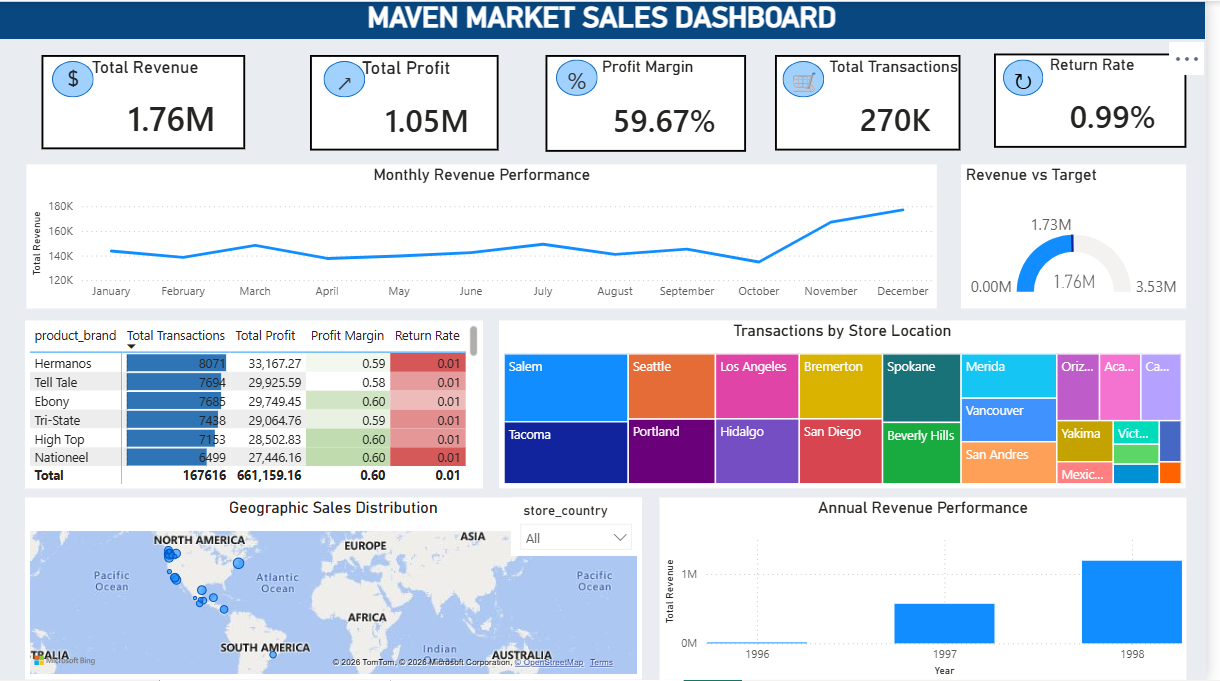

The dashboard page shown, as its layout file describes it:
{"tool":"powerbi","page":{"name":"Executive Dashboard","canvas":[1280,720],"ordinal":0},"visuals":[{"type":"cardVisual","title":"Total Revenue","fields":{"Data":["Measures (2).Total Revenue"]},"box":[45.7,57.1,215.7,100],"z":0},{"type":"cardVisual","title":"Total Profit","fields":{"Data":["Measures (2).Total Profit"]},"box":[331.4,57.1,200,101.6],"z":1000},{"type":"cardVisual","title":"Profit Margin","fields":{"Data":["Measures (2).Profit Margin"]},"box":[580,57.1,212.9,102.9],"z":2000},{"type":"cardVisual","title":"Total Transactions","fields":{"Data":["Measures (2).Total Transactions"]},"box":[823.9,56.7,196.9,101.6],"z":3000},{"type":"cardVisual","title":"Return Rate","fields":{"Data":["Measures (2).Return Rate"]},"box":[1055.8,55.8,203.8,100],"z":4000},{"type":"lineChart","title":"Monthly Revenue Performance","fields":{"Category":["MavenMarket_Calender.Start of Month.Variation.Date Hierarchy.Year","MavenMarket_Calender.Start of Month.Variation.Date Hierarchy.Quarter","MavenMarket_Calender.Start of Month.Variation.Date Hierarchy.Month","MavenMarket_Calender.Start of Month.Variation.Date Hierarchy.Day"],"Y":["Measures (2).Total Revenue"]},"box":[30.2,173.4,965.5,152.7],"z":5000},{"type":"gauge","title":"Revenue vs Target","fields":{"Y":["Measures (2).Total Revenue"],"TargetValue":["Measures (2).Revenue Target"]},"box":[1021.2,173.4,238.6,152.7],"z":6000},{"type":"pivotTable","fields":{"Rows":["MavenMarket_Products.product_brand"],"Values":["Measures (2).Total Transactions","Measures (2).Total Profit","Measures (2).Profit Margin","Measures (2).Return Rate"]},"box":[28.6,338.8,485.1,178.1],"z":7000},{"type":"treemap","title":"Transactions by Store Location","fields":{"Group":["MavenMarket_Stores.store_country","MavenMarket_Stores.store_state","MavenMarket_Stores.store_city"],"Values":["Measures (2).Total Transactions"]},"box":[531.3,338.8,728.1,178.1],"z":8000},{"type":"map","title":"Geographic Sales Distribution","fields":{"Category":["MavenMarket_Stores.store_city"],"Size":["Measures (2).Total Transactions"]},"box":[28.8,526.9,653.8,192.3],"z":9000},{"type":"slicer","fields":{"Values":["MavenMarket_Stores.store_country"]},"box":[544.4,527,137.9,62.1],"z":10000},{"type":"clusteredColumnChart","title":"Annual Revenue Performance","fields":{"Category":["MavenMarket_Calender.Start of Week.Variation.Date Hierarchy.Year","MavenMarket_Calender.Start of Week.Variation.Date Hierarchy.Quarter","MavenMarket_Calender.Start of Week.Variation.Date Hierarchy.Month","MavenMarket_Calender.Start of Week.Variation.Date Hierarchy.Day"],"Y":["Measures (2).Total Revenue"]},"box":[701.6,526.6,558.7,193.7],"z":11000},{"type":"textbox","title":"MAVEN MARKET SALES DASHBOARD","box":[0,0,1280.4,41.4],"z":12000},{"type":"shape","box":[57.1,62.9,44.3,38.6],"z":13000},{"type":"textbox","title":"$","box":[68.6,68.6,24.3,28.6],"z":14000},{"type":"shape","box":[831.4,64.3,44.3,38.6],"z":16000},{"type":"shape","box":[1065.7,61.4,42.9,38.6],"z":17000},{"type":"shape","box":[591.7,62,44.3,38.6],"z":19000},{"type":"shape","box":[345.2,63.6,44.3,38.6],"z":20000}]}

Visuals, with their boxes in screenshot pixels (x1, y1, x2, y2), scaled from the page's 1280x720 canvas onto the 1220x681 screenshot:
"Total Revenue" cardVisual: 44,54,249,149
"Total Profit" cardVisual: 316,54,506,150
"Profit Margin" cardVisual: 553,54,756,151
"Total Transactions" cardVisual: 785,54,973,150
"Return Rate" cardVisual: 1006,53,1201,147
"Monthly Revenue Performance" lineChart: 29,164,949,308
"Revenue vs Target" gauge: 973,164,1201,308
pivotTable - MavenMarket_Products.product_brand x Measures (2).Total Transactions: 27,320,490,489
"Transactions by Store Location" treemap: 506,320,1200,489
"Geographic Sales Distribution" map: 27,498,651,680
slicer - MavenMarket_Stores.store_country: 519,498,650,557
"Annual Revenue Performance" clusteredColumnChart: 669,498,1201,680
"MAVEN MARKET SALES DASHBOARD" textbox: 0,0,1219,39
shape: 54,59,97,96
"$" textbox: 65,65,89,92
shape: 792,61,835,97
shape: 1016,58,1057,95
shape: 564,59,606,95
shape: 329,60,371,97
